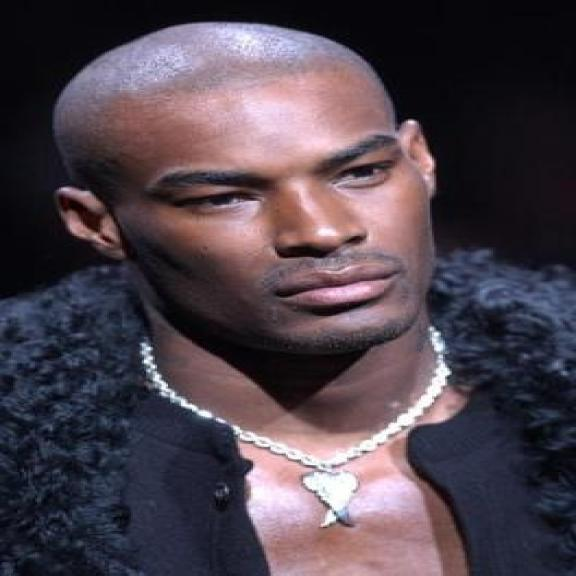face: (53, 66, 444, 356)
